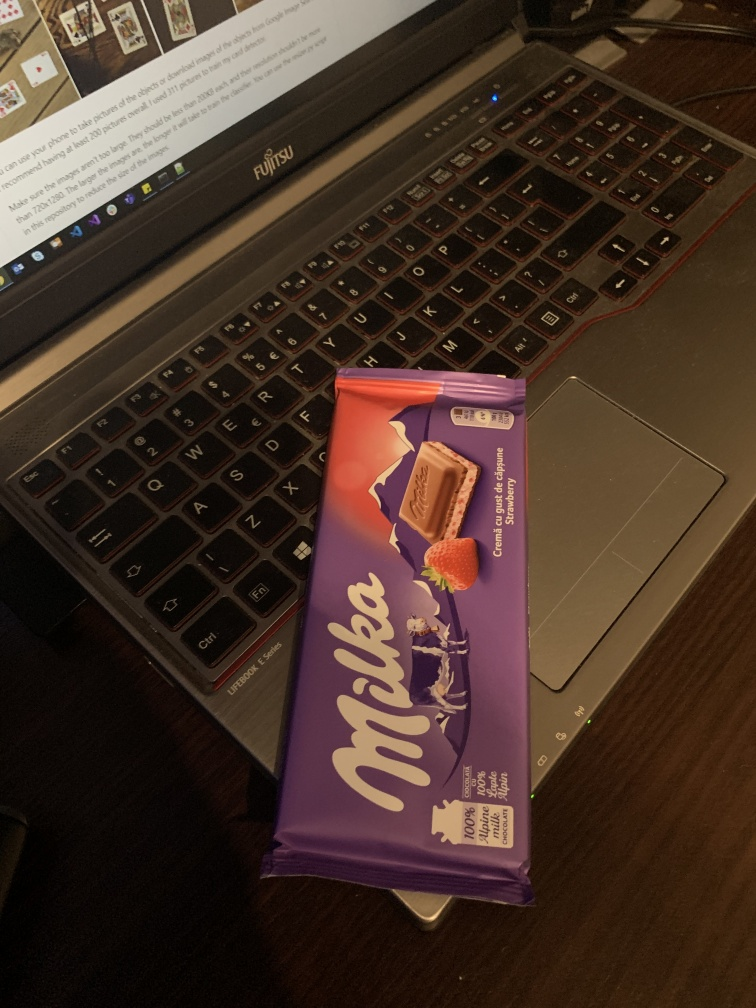milka: (265, 362, 540, 915)
